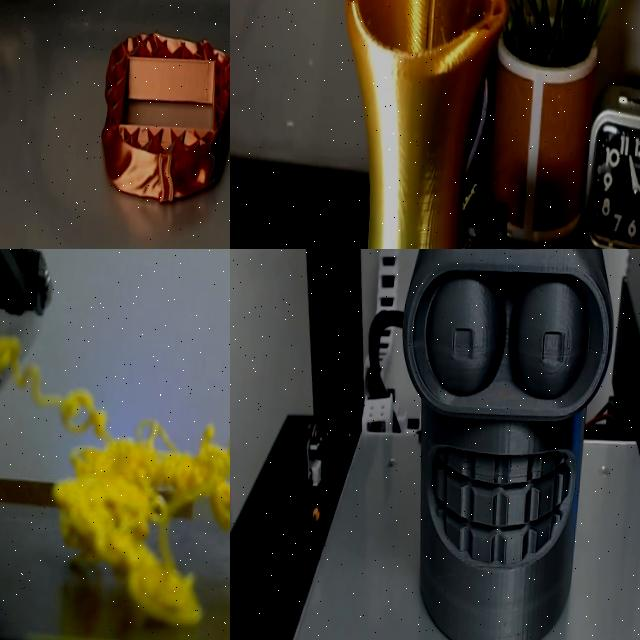spaghetti: (0, 334, 230, 626), (458, 243, 475, 249)
